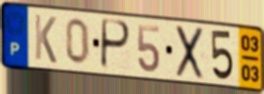0: (64, 17, 92, 67)
5: (136, 22, 162, 74), (210, 30, 235, 82)
K: (33, 12, 58, 66)
P: (99, 17, 133, 72)
X: (174, 24, 205, 82)
